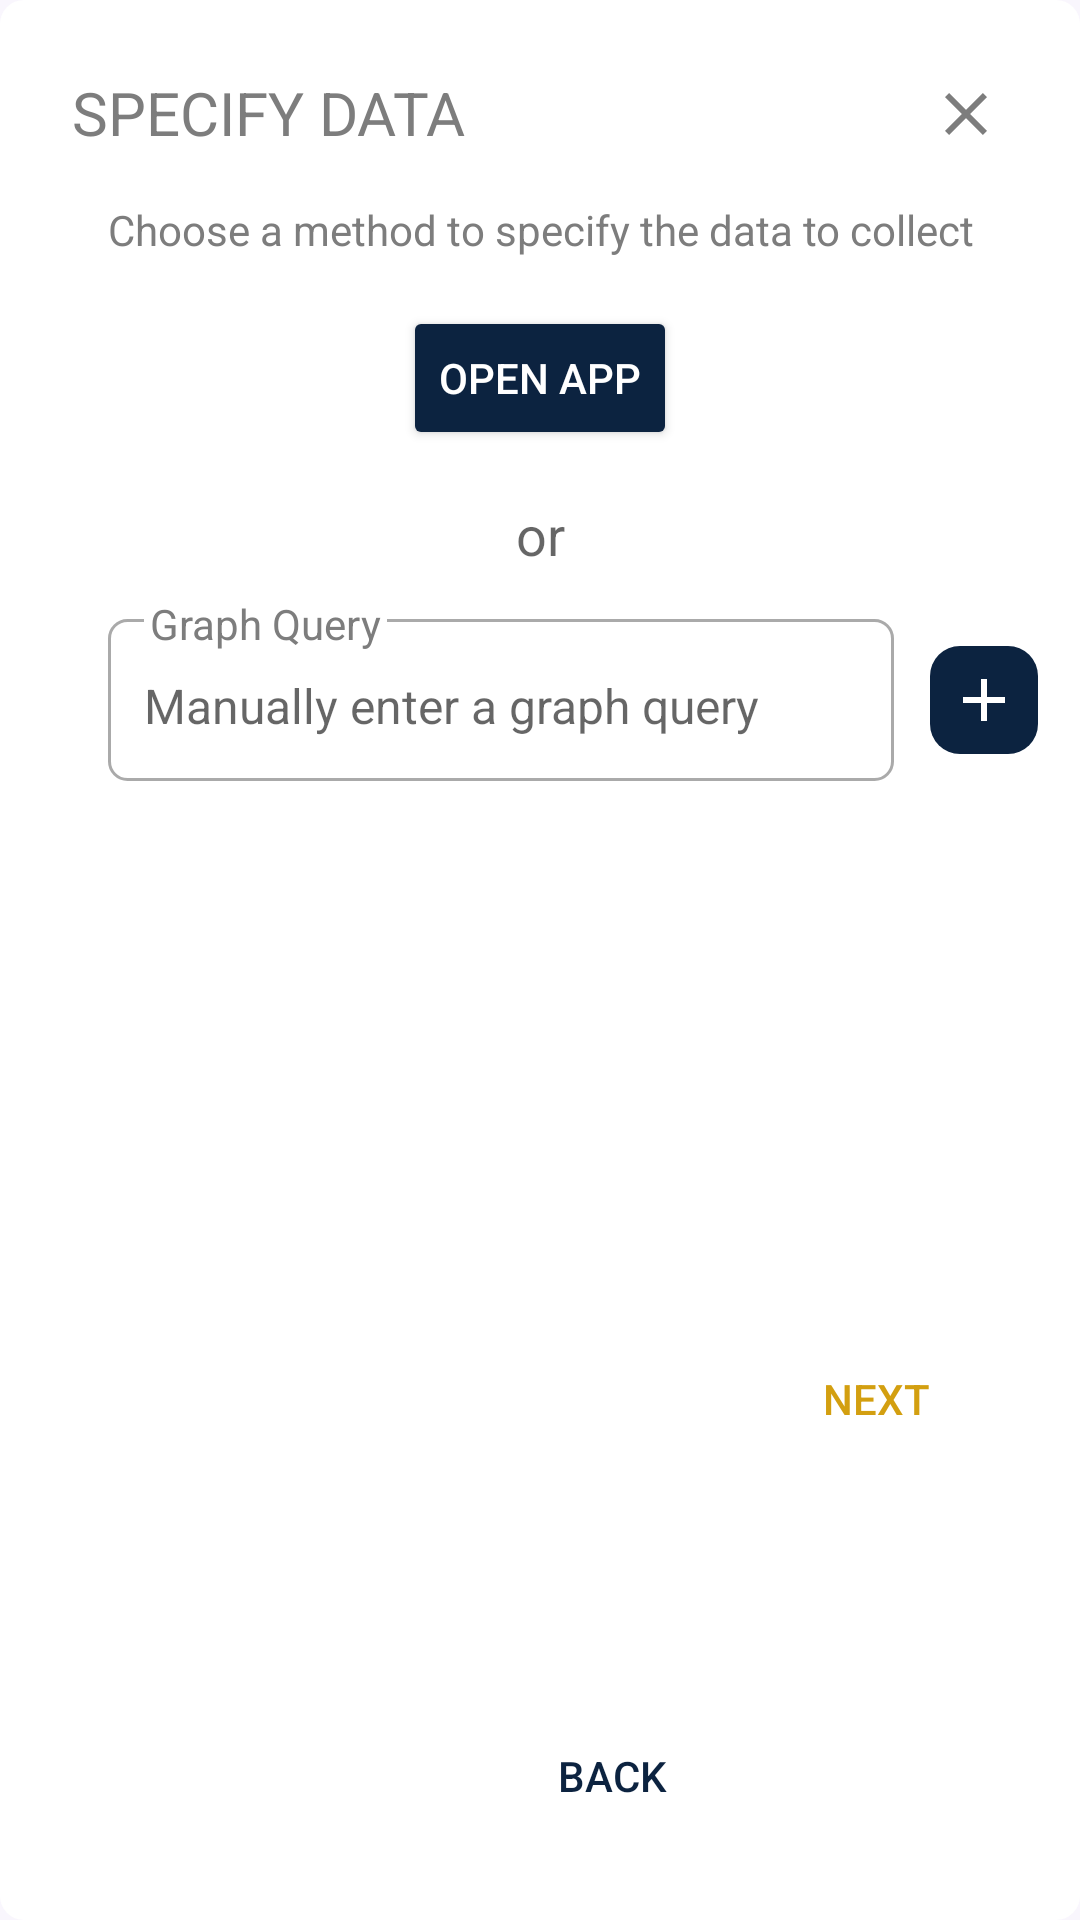

Point at icon controls on the screen. Image size 1080w x 1920h, points as point (x, y).
add: point (984, 700)
close: point (966, 114)
